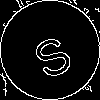S: (25, 25, 76, 81)
